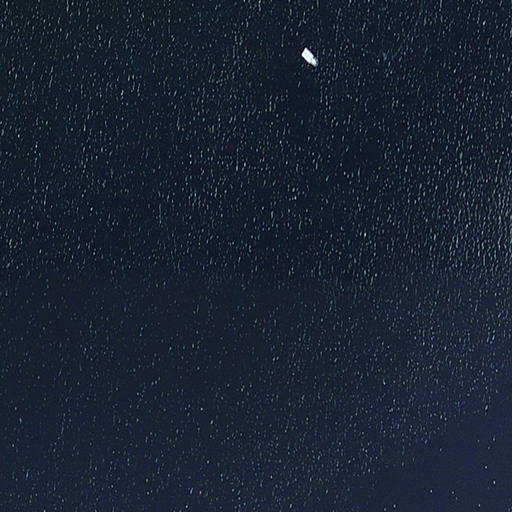ship: (298, 45, 321, 70)
